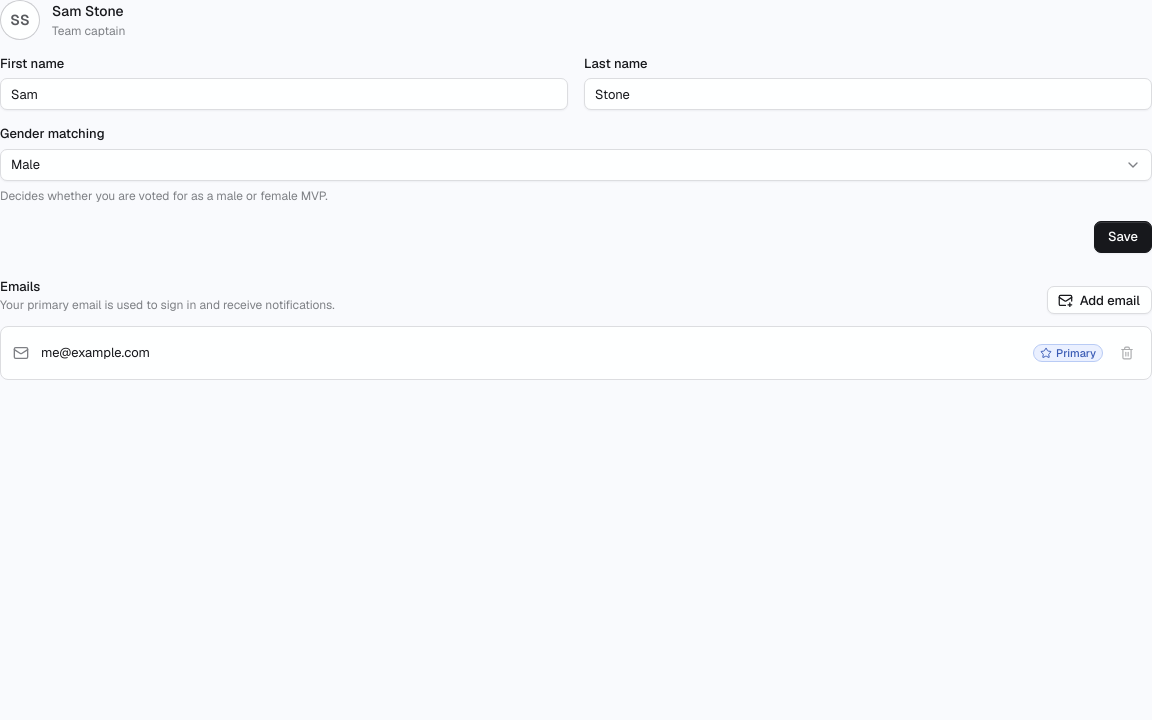
Test: AccountSettings emails › adds an email then verifies it with the emailed code
This screenshot has width=1152, height=720.
Click the button "Add email" at (1099, 300), box [1047, 286, 1151, 314]
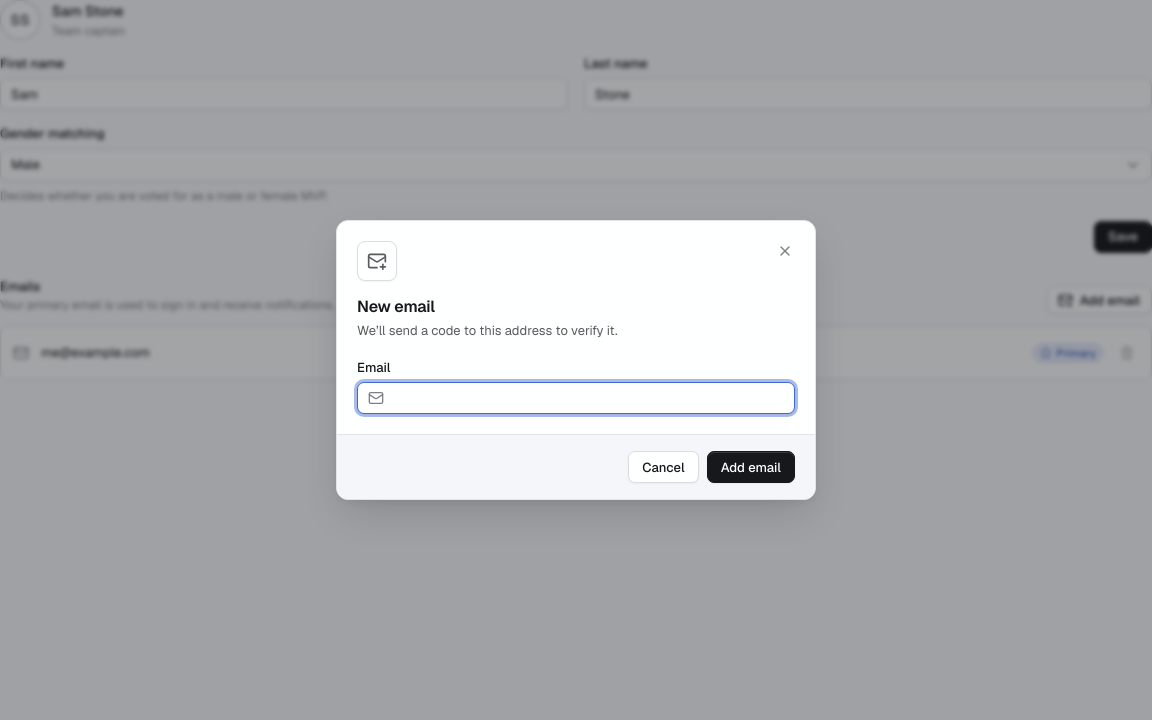
Type " new@example.com " into the field labelled "Email" at (588, 398), box [392, 383, 784, 413]
Click the button "Add email" at (751, 467), box [707, 451, 795, 483]
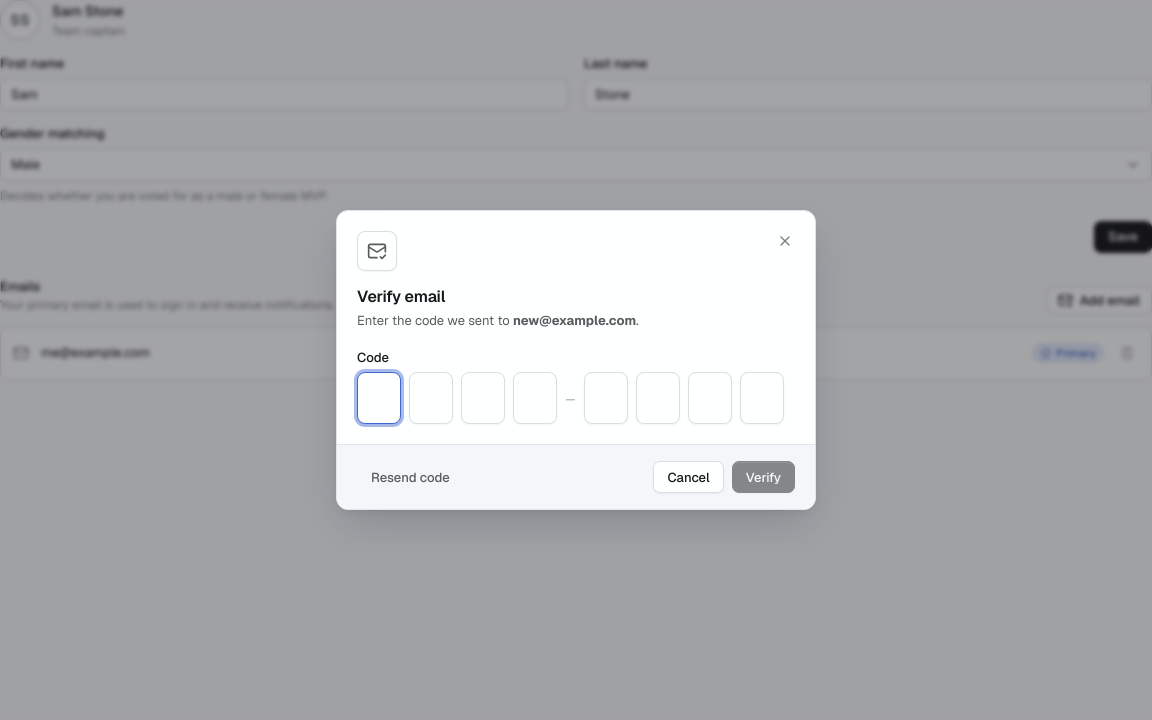
Check: the text "new@example.com" is shown, box [513, 312, 636, 329]
Click the button "Resend code" at (410, 477), box [357, 461, 464, 493]
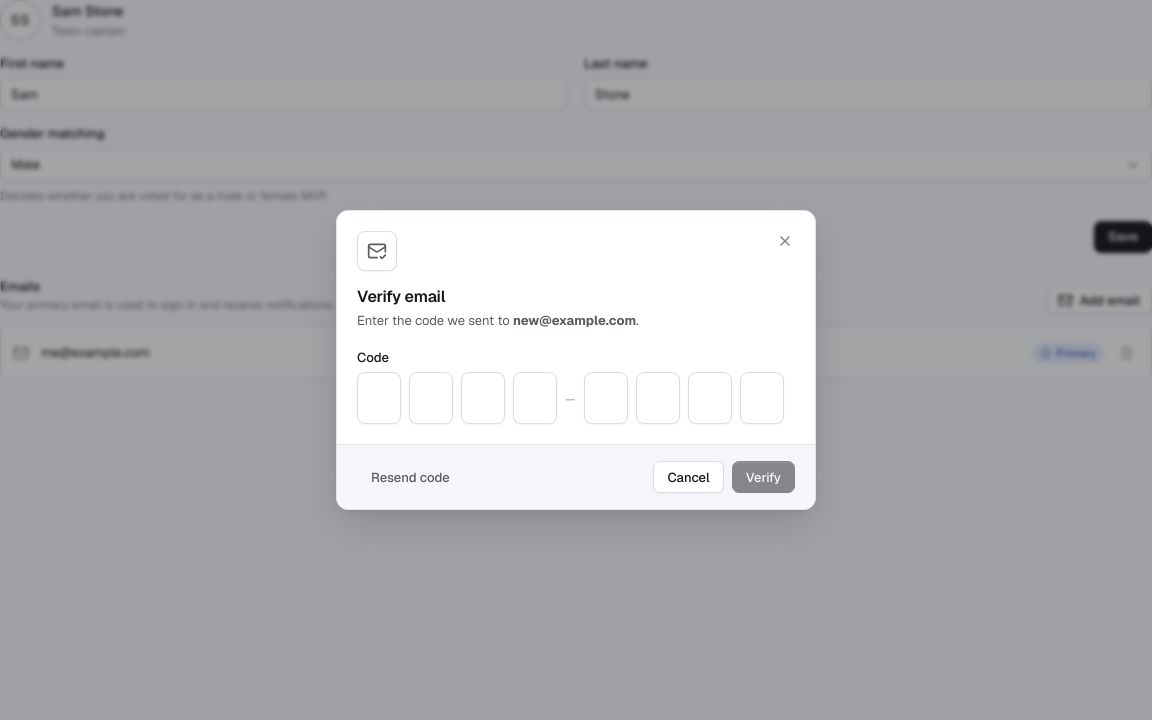
Check: the button "Verify" is disabled, box [732, 461, 795, 493]
Click the field named "Character 1 of 8" at (379, 398), box [357, 372, 401, 424]
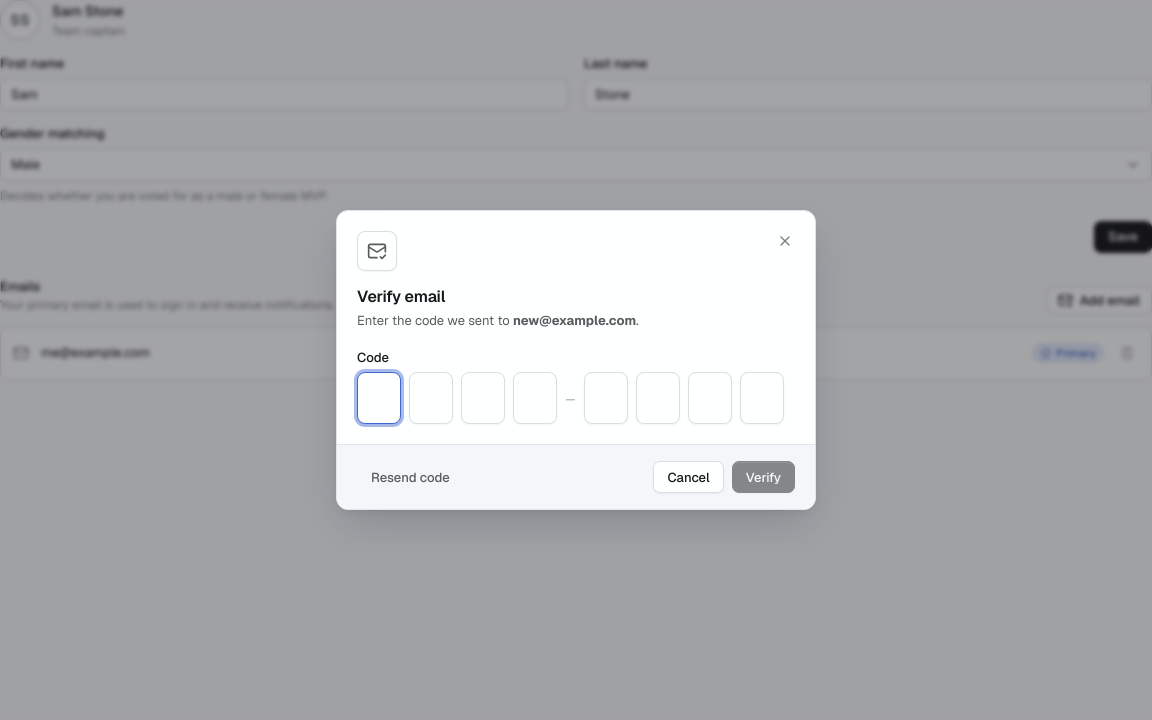
Type keys "abcd1234"
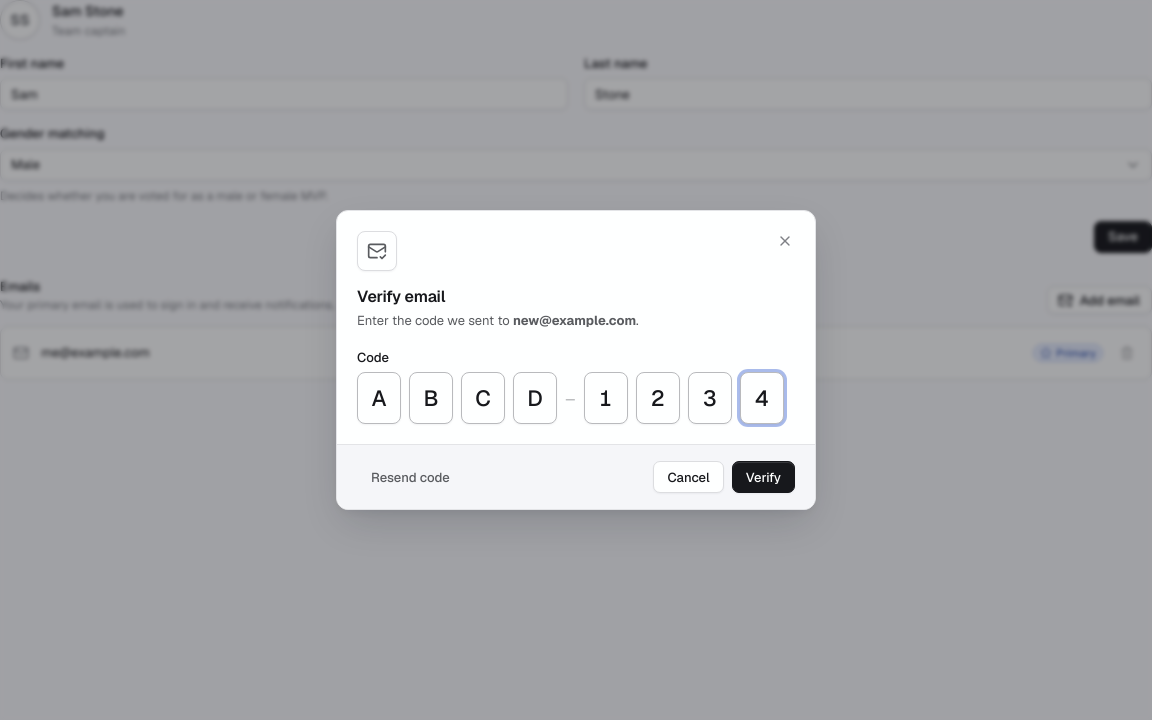
Click the button "Verify" at (763, 477), box [732, 461, 795, 493]
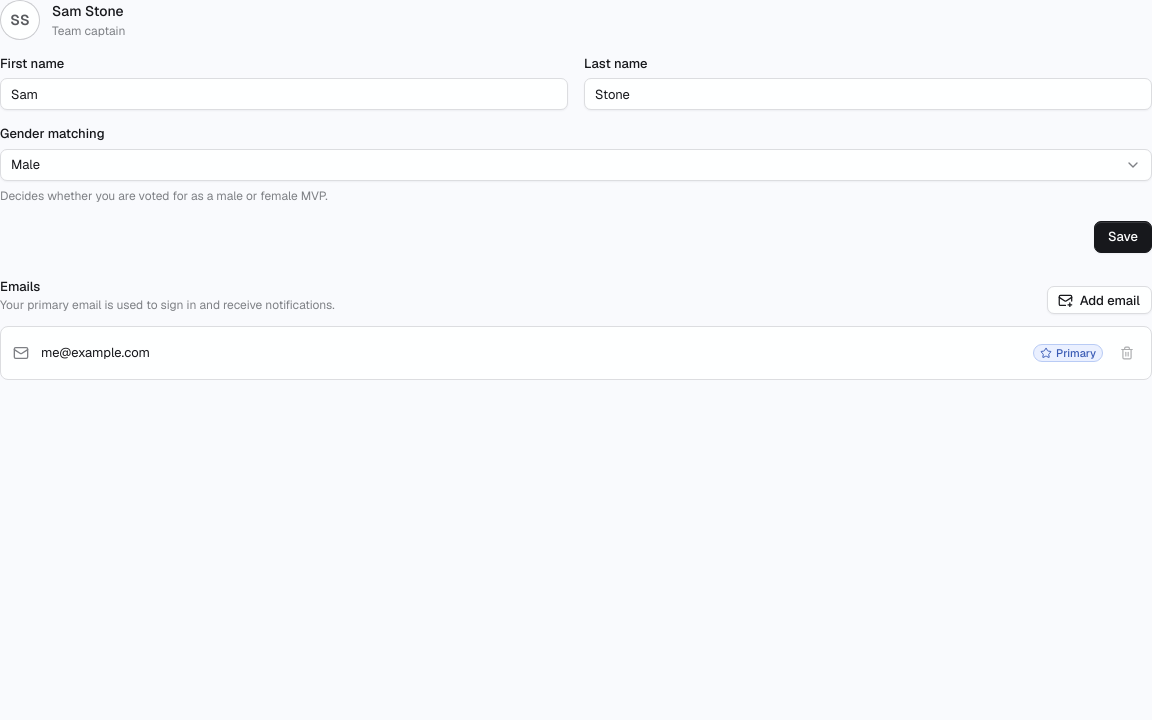
Check: the heading "Verify email" is gone
